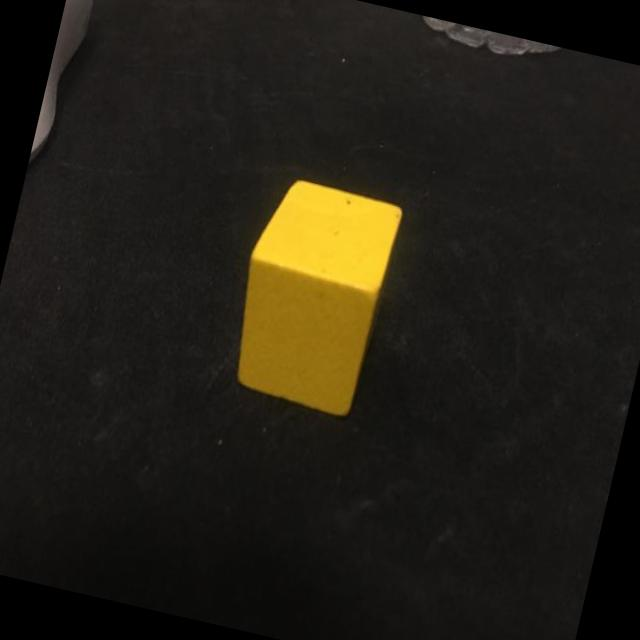yellow: (237, 179, 402, 414)
